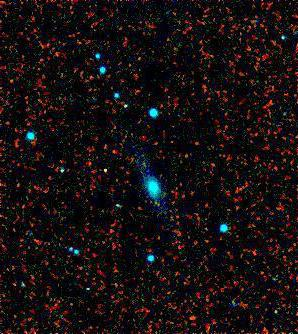star: (96, 157, 126, 187)
